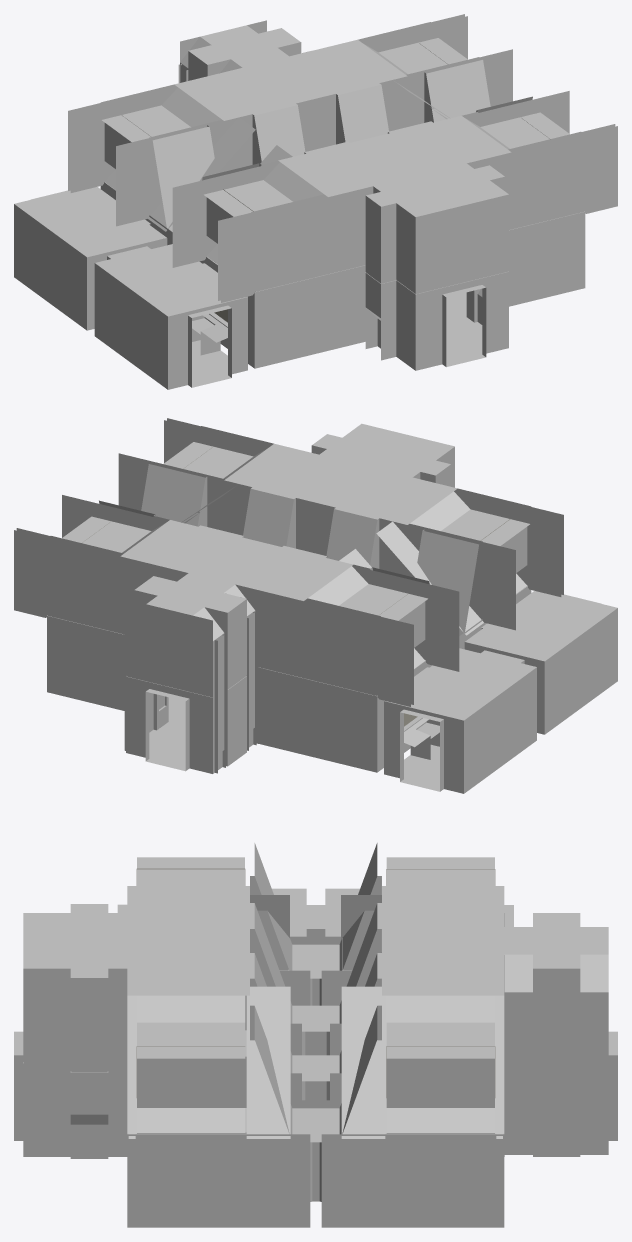
File: room2_CheckpointHczEz.fbx
The picture shows the model from 3 angles, top to bottom: view 1: azimuth 30°, elevation 25°; view 2: azimuth 150°, elevation 25°; view 3: azimuth 270°, elevation 25°; orthographic projection. The views are drawn at different scales.
Parts seen in each view (by area): view 1: room2_CheckpointHczEz; view 2: room2_CheckpointHczEz; view 3: room2_CheckpointHczEz.
Boxes of the visible parts, x1=… form: room2_CheckpointHczEz: x1=14, y1=14, x2=617, y2=389; room2_CheckpointHczEz: x1=14, y1=418, x2=617, y2=793; room2_CheckpointHczEz: x1=14, y1=843, x2=617, y2=1227.
Size of the model in its own units: 21.6 by 7.04 by 20.48.
